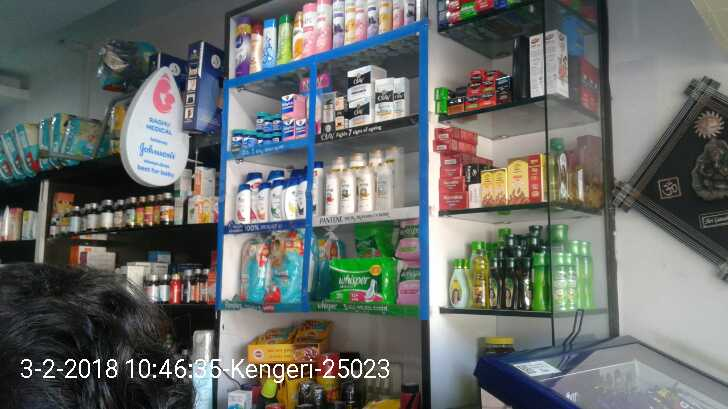beauty: (268, 177, 306, 221), (338, 60, 369, 102), (375, 165, 399, 211), (357, 166, 377, 213), (337, 171, 358, 213), (342, 102, 373, 128), (375, 78, 394, 116), (323, 168, 337, 218), (232, 184, 250, 222), (253, 184, 270, 221)
pharmacy: (327, 255, 393, 305), (272, 227, 306, 305), (235, 234, 266, 302), (274, 118, 308, 138), (275, 89, 297, 114), (248, 110, 271, 131), (238, 128, 256, 152), (224, 126, 240, 147), (269, 113, 284, 132)
